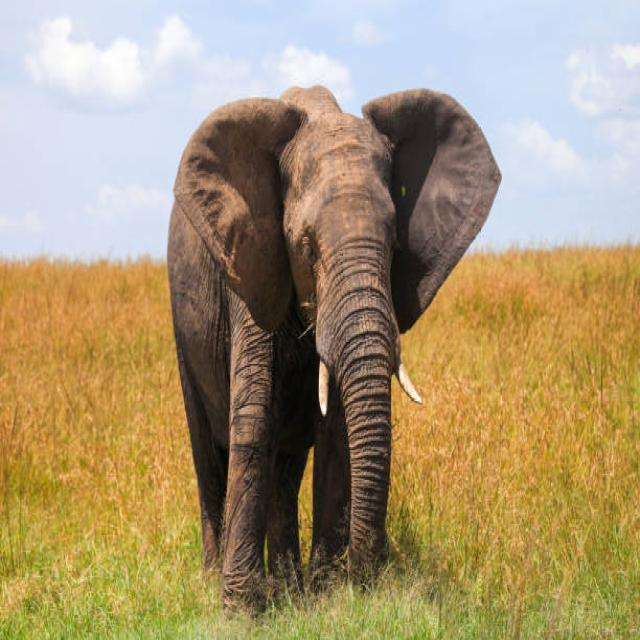Elephant: (143, 65, 513, 615)
